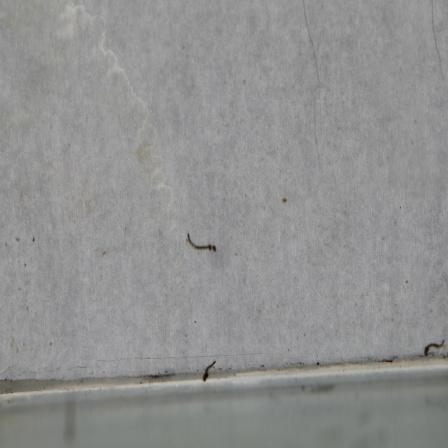Jentik-Nyamuk: (184, 227, 219, 257), (420, 334, 448, 359), (198, 357, 221, 383)
